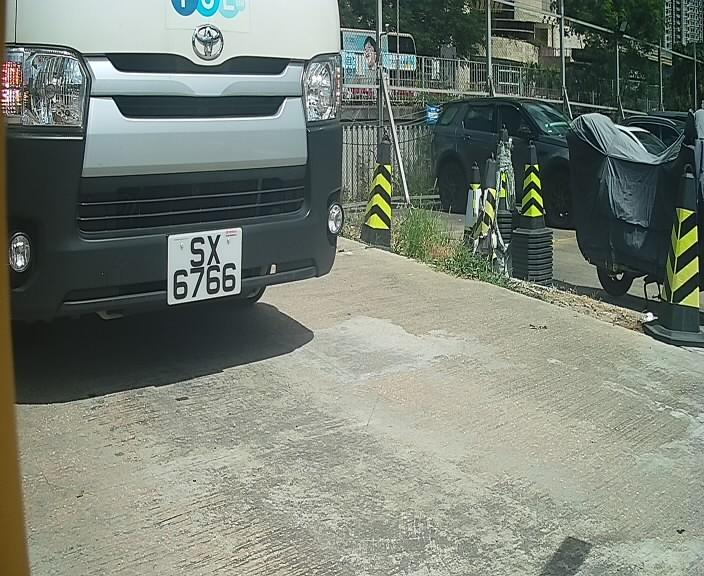License Plate: (158, 224, 249, 307)
